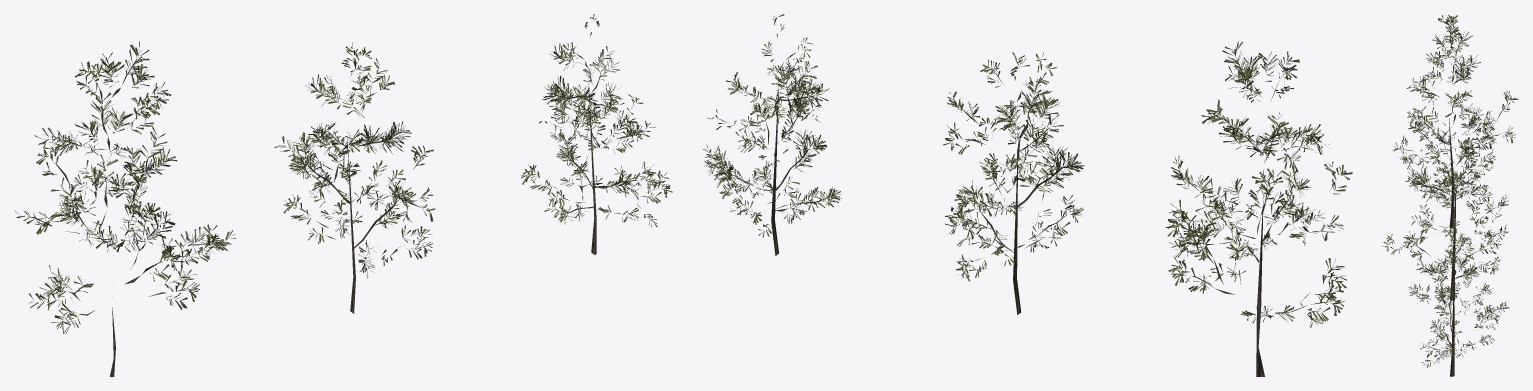
The model's file is pine_sapling_small.glb.
3 renders of one model, left to right at view 1: azimuth 30°, elevation 25°; view 2: azimuth 150°, elevation 25°; view 3: azimuth 270°, elevation 25°, orthographic. The views are drawn at different scales.
Visible parts, largest first — view 1: pine_sapling_small_b; view 2: pine_sapling_small_b; view 3: pine_sapling_small_b.
Boxes of the visible parts, box(x1,y1,x2,y2) form: pine_sapling_small_b: box(15, 14, 673, 376); pine_sapling_small_b: box(703, 14, 1352, 376); pine_sapling_small_b: box(1381, 15, 1518, 376).
Bounding box in the file's own units: 2.62 × 1.29 × 0.7677.
Materials: 2 (2 with a texture image).
